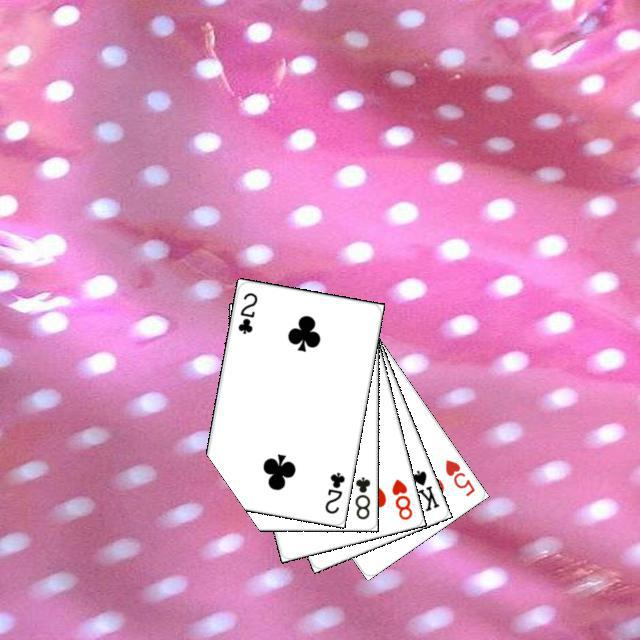2c: (233, 287, 259, 336), (320, 467, 346, 515)
5h: (440, 455, 477, 498)
8c: (350, 472, 372, 521)
8h: (387, 474, 414, 522)
Ks: (407, 465, 441, 513)
